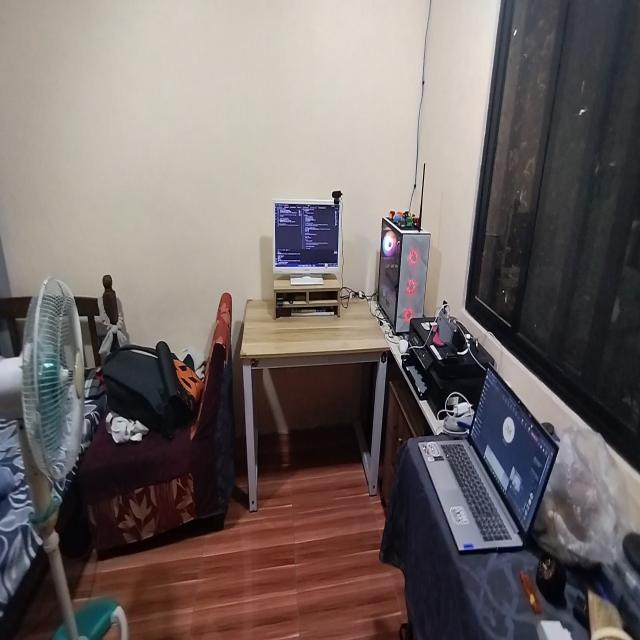table: (242, 295, 390, 519)
